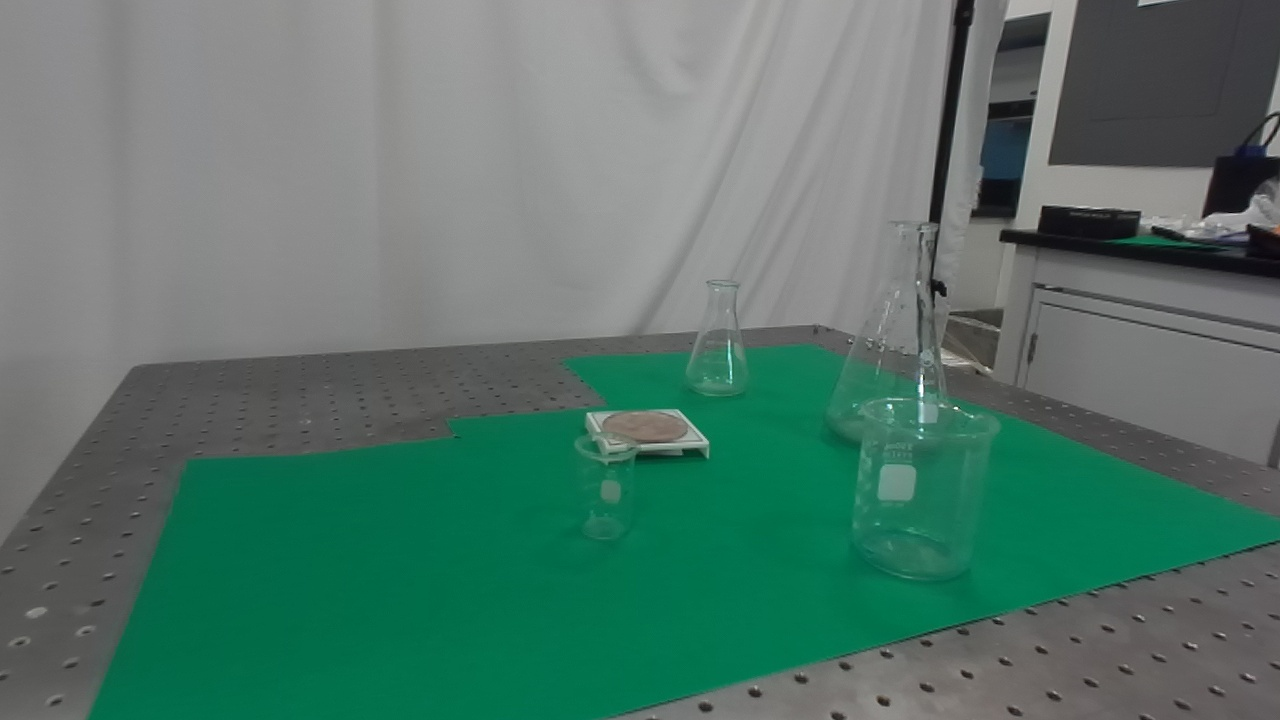glass: (820, 215, 961, 455), (847, 397, 1002, 587), (681, 275, 753, 401), (569, 429, 644, 544)
plate: (580, 400, 714, 464)
